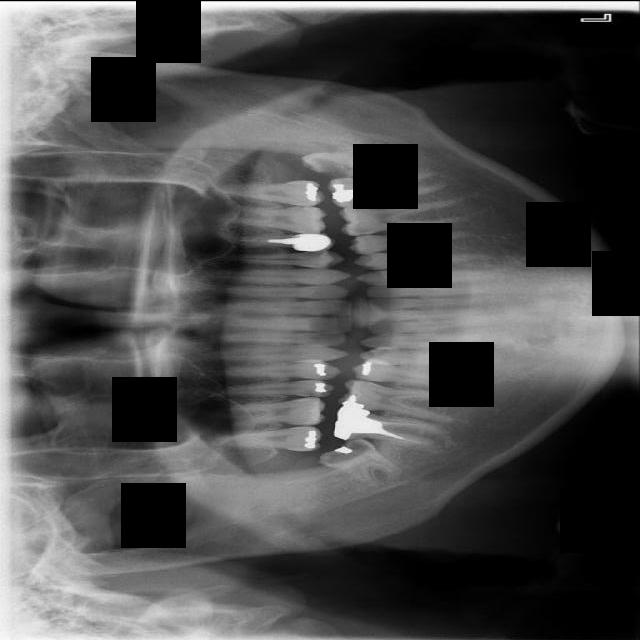52: (316, 431, 375, 476), (331, 402, 377, 447), (337, 376, 382, 418), (325, 171, 365, 212), (323, 436, 369, 466), (309, 152, 351, 184), (352, 354, 388, 382), (292, 179, 325, 207), (289, 424, 321, 452), (304, 357, 342, 380), (296, 232, 333, 253), (302, 378, 336, 399)
73: (361, 412, 443, 450), (235, 234, 300, 251), (576, 54, 594, 59)
BioHorizons Implant: (212, 179, 325, 208)
Biomet 3i Implant: (299, 137, 398, 188)
Blue Sky Bio Implant: (326, 169, 447, 209)
Caries: (211, 424, 322, 452)
Implant: (331, 405, 446, 450)
Keystone Dental Implant: (316, 421, 408, 497)
